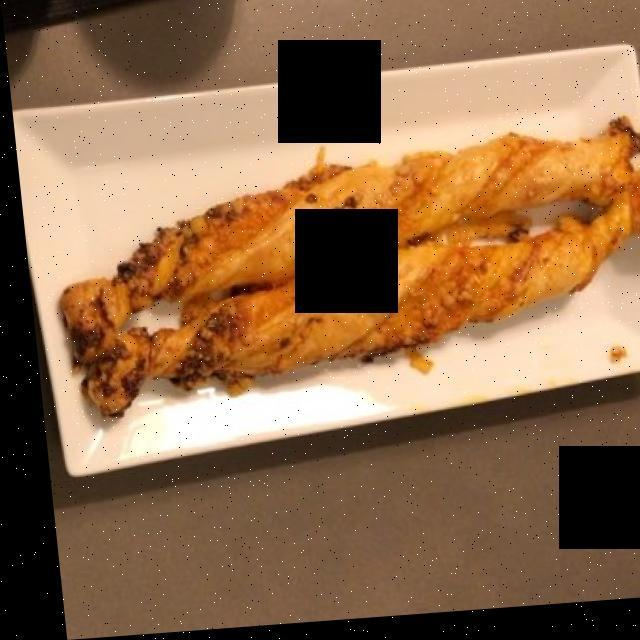pastry: (60, 115, 640, 425)
